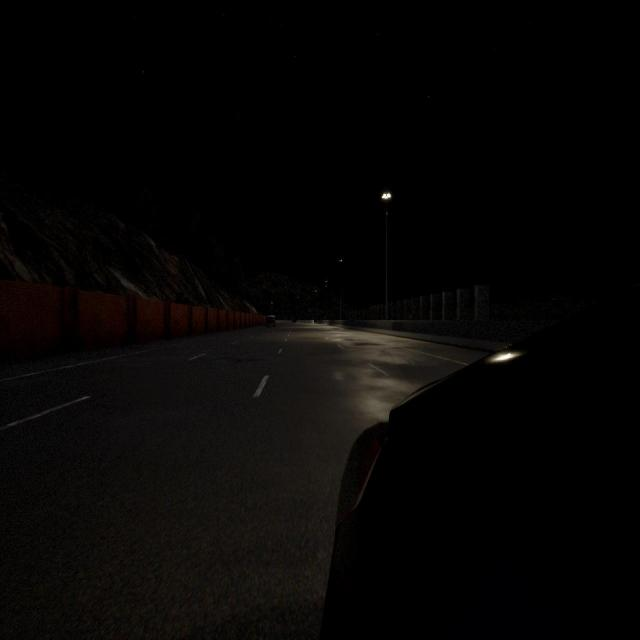Vehicle: (320, 286, 640, 637), (266, 315, 275, 327)
